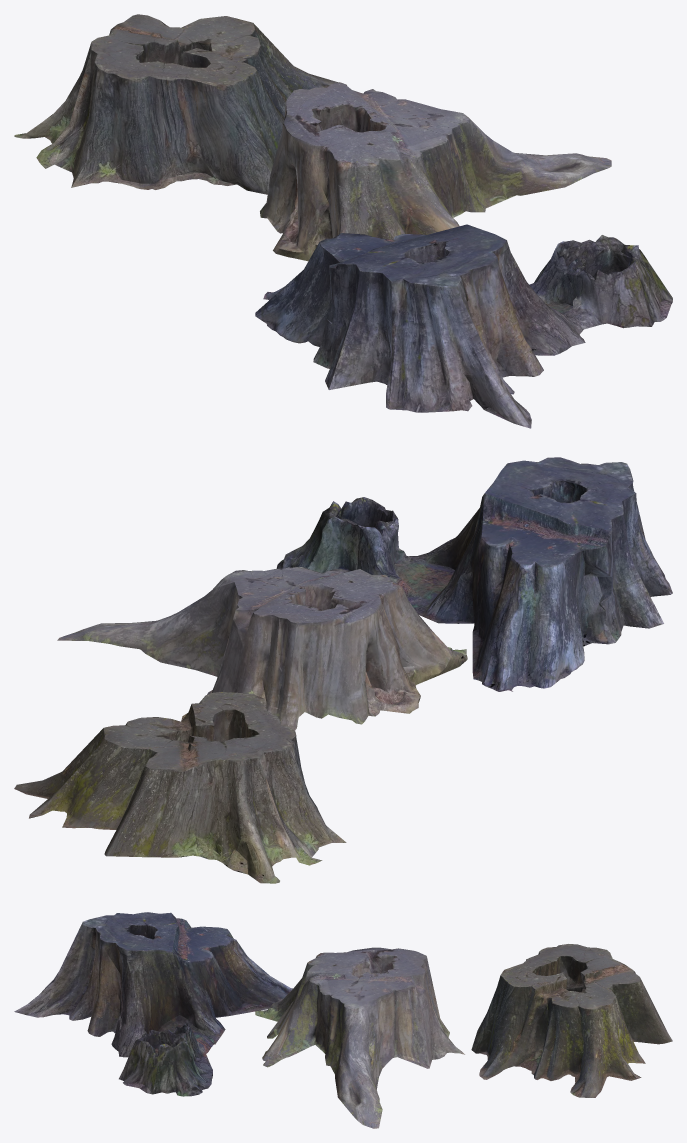
File: realstumps.glb
The picture shows the model from 3 angles, top to bottom: view 1: azimuth 30°, elevation 25°; view 2: azimuth 150°, elevation 25°; view 3: azimuth 270°, elevation 25°; orthographic projection. The views are drawn at different scales.
Parts seen in each view (by area): view 1: Object_4, Object_2, Object_3; view 2: Object_4, Object_2, Object_3; view 3: Object_4, Object_2, Object_3.
Part boxes in pixels (x1=…): Object_4: x1=255, y1=224, x2=672, y2=428; Object_2: x1=14, y1=14, x2=346, y2=194; Object_3: x1=260, y1=82, x2=611, y2=261; Object_4: x1=276, y1=457, x2=672, y2=691; Object_2: x1=14, y1=692, x2=346, y2=883; Object_3: x1=57, y1=567, x2=467, y2=730; Object_4: x1=14, y1=912, x2=292, y2=1096; Object_2: x1=471, y1=944, x2=672, y2=1097; Object_3: x1=255, y1=947, x2=464, y2=1128.
Bounding box in the file's own units: 3.03 × 0.8999 × 5.5.
Materials: 3 (3 with a texture image).
